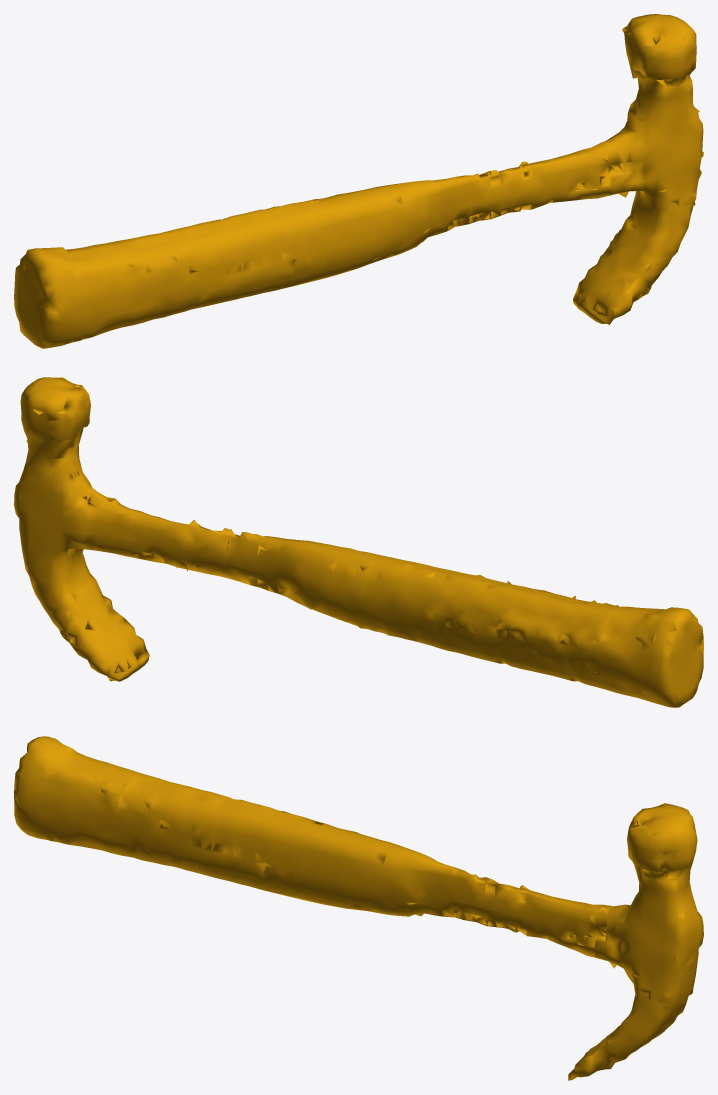
The model's file is model_origin.obj.
3 renders of one model, top to bottom at view 1: azimuth 30°, elevation 25°; view 2: azimuth 150°, elevation 25°; view 3: azimuth 330°, elevation 25°, orthographic.
Size of the model in its own units: 0.999 by 0.3915 by 0.1166.
